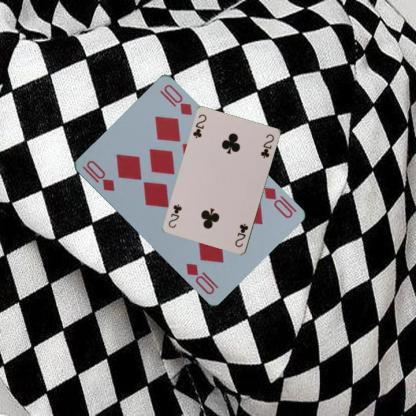10d: (80, 156, 116, 193), (261, 184, 294, 219)
2c: (190, 111, 208, 140), (232, 221, 250, 249)
